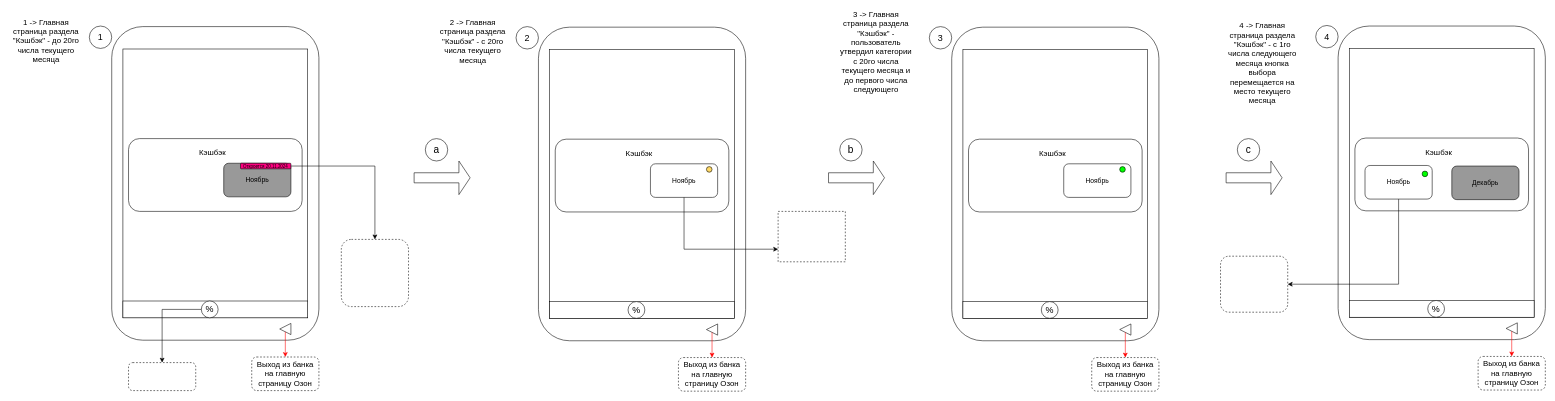
This 1555x401 diagram has some shape labels left out. Here are the shapes that lost their labels. From the top down, the centre of each, then its label:
(x=811, y=236): Появляется жёлтый кружочек - категории доступ ны к выбору
(x=375, y=273): Плашка с пояснением когда будут доступны выборы категорий на следующий месяц
(x=1254, y=284): Если категории не были бы утверждены, кружок был бы жёлтым
(x=162, y=376): Раздел "Бонусы"
